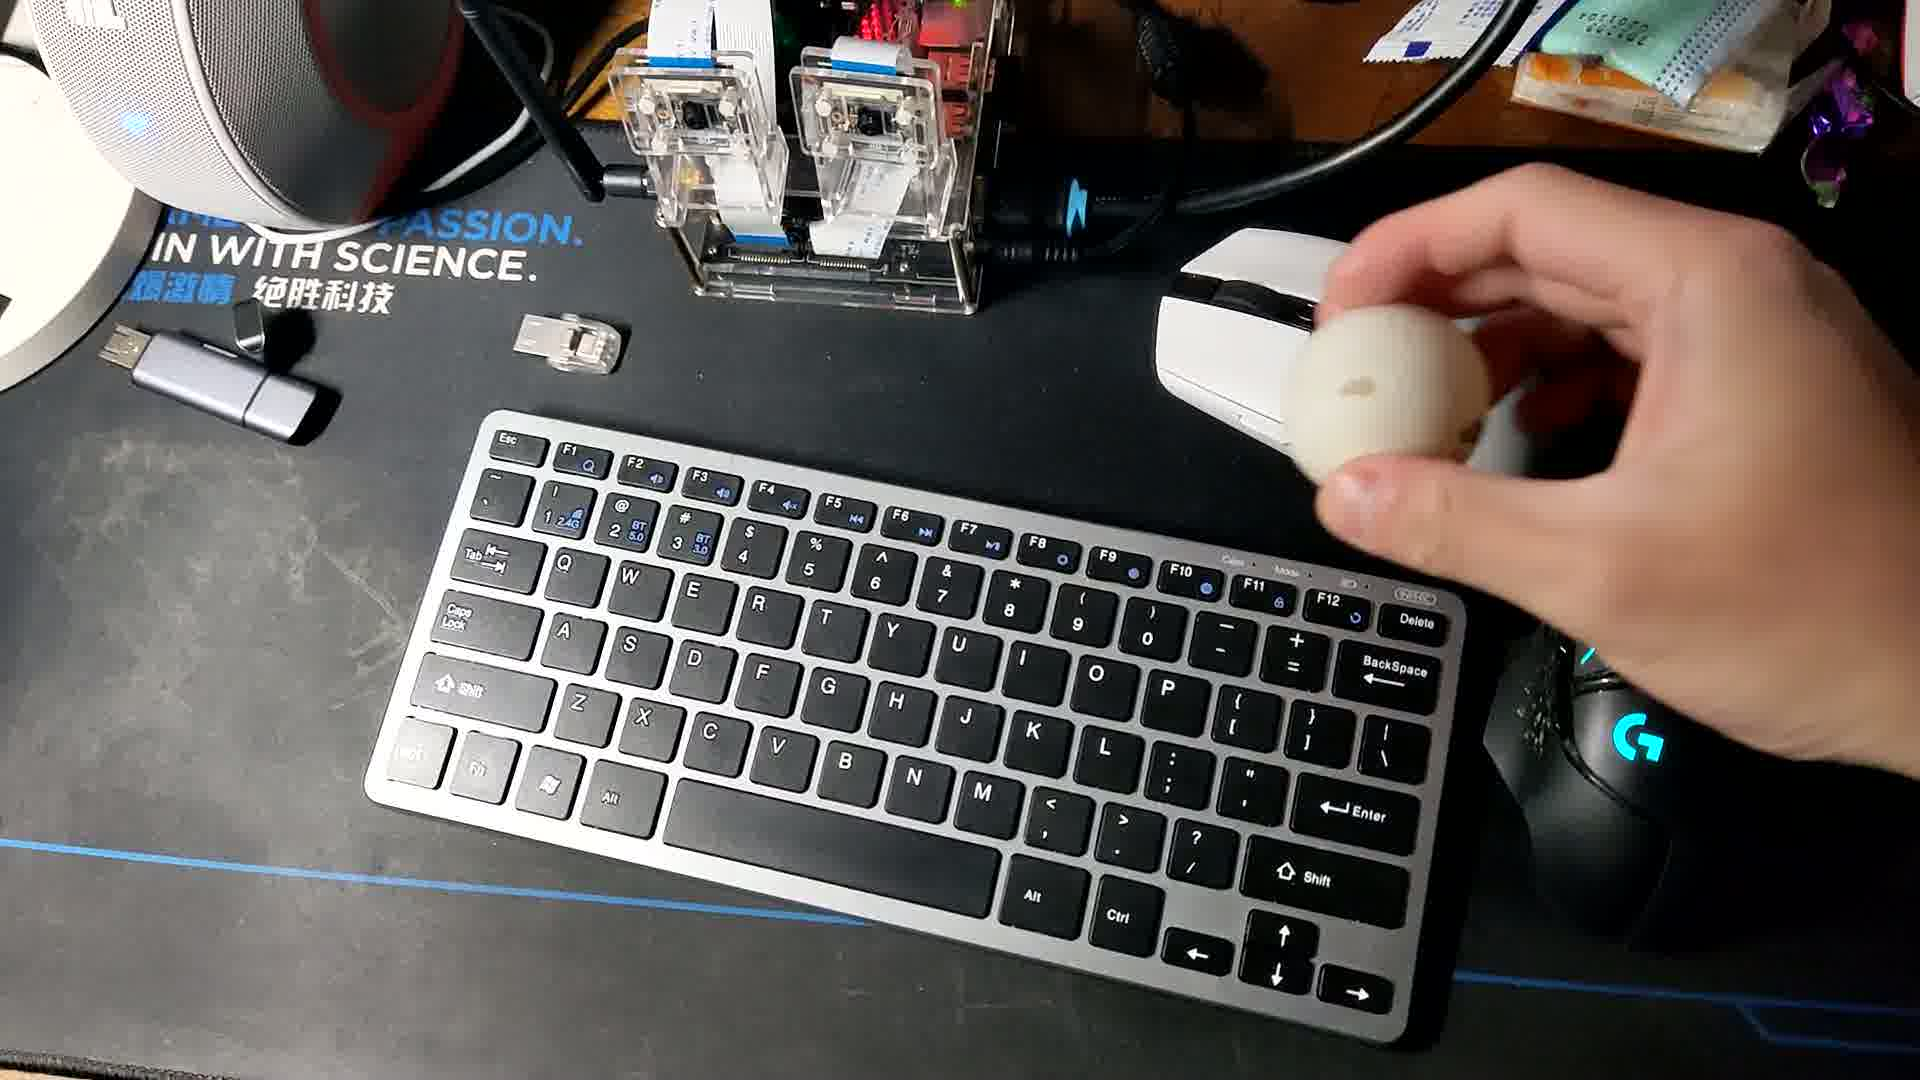Ball: (1282, 309, 1487, 493)
